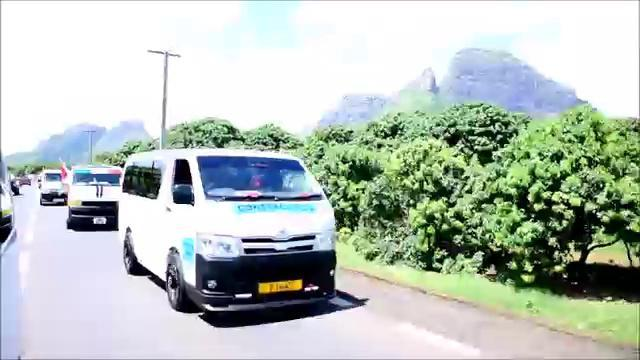Van: (120, 152, 342, 318)
